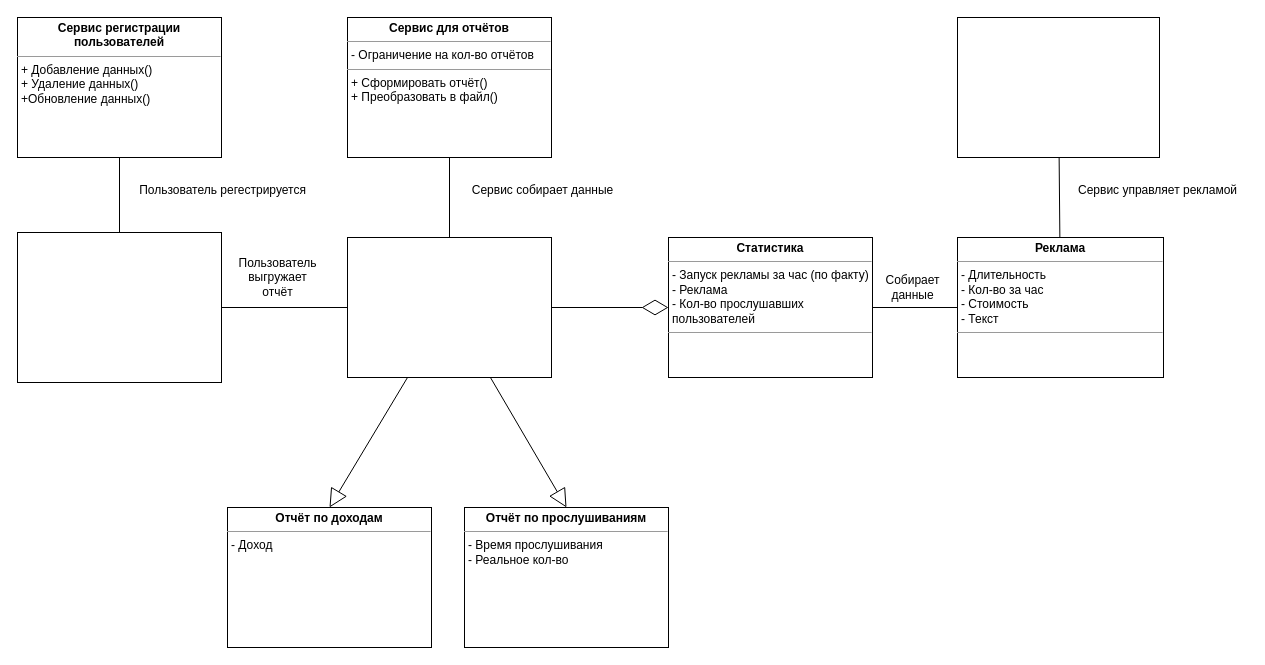
This 1265x665 diagram has some shape labels left out. The box of each missing label's shape, as (x1, y1, x2, y2) in pixels:
Отчёт - Название - Время выгрузки - Рекламодатель: (346, 236, 552, 378)
Пользователь - Логин - Статус - Номер телефона - Почта: (16, 232, 222, 382)
Сервис для рекламы - Ограничение на кол-во рекламы + Запустить рекламу(): (956, 16, 1160, 158)
